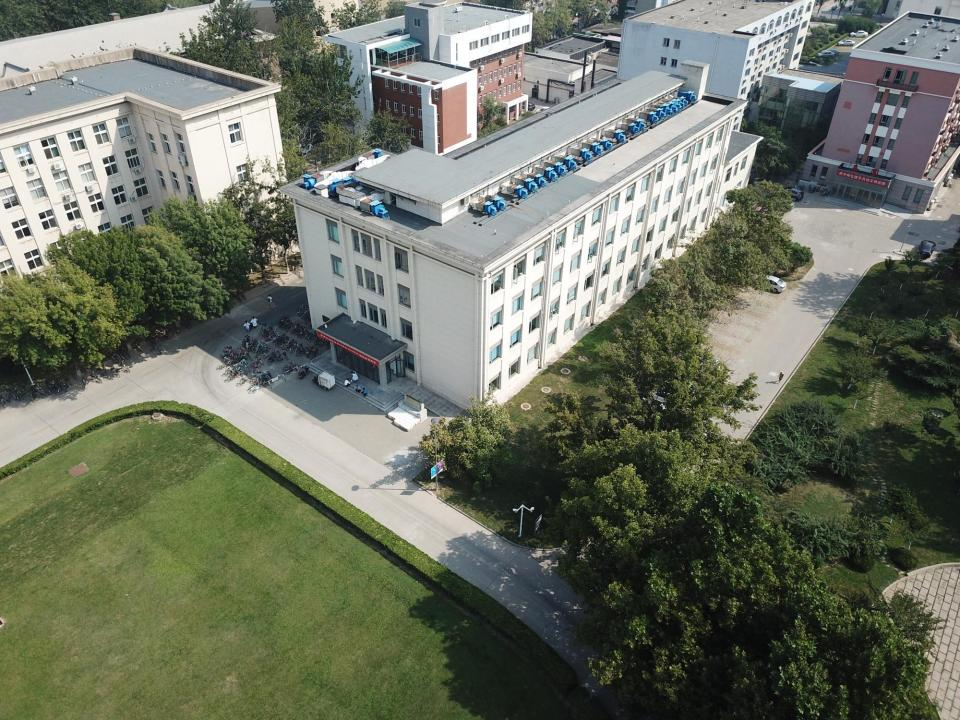car: (752, 275, 787, 293), (778, 186, 804, 202), (917, 239, 936, 258), (848, 30, 868, 38), (816, 50, 835, 58), (836, 39, 856, 46), (821, 49, 839, 56)
